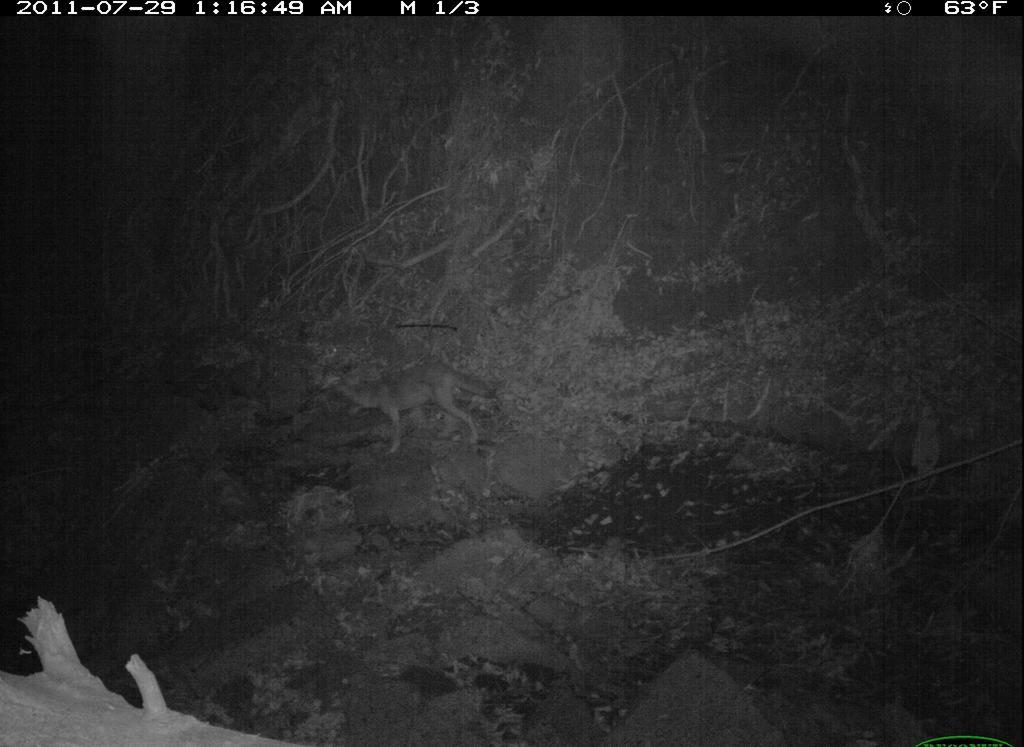coyote: (342, 363, 504, 455)
